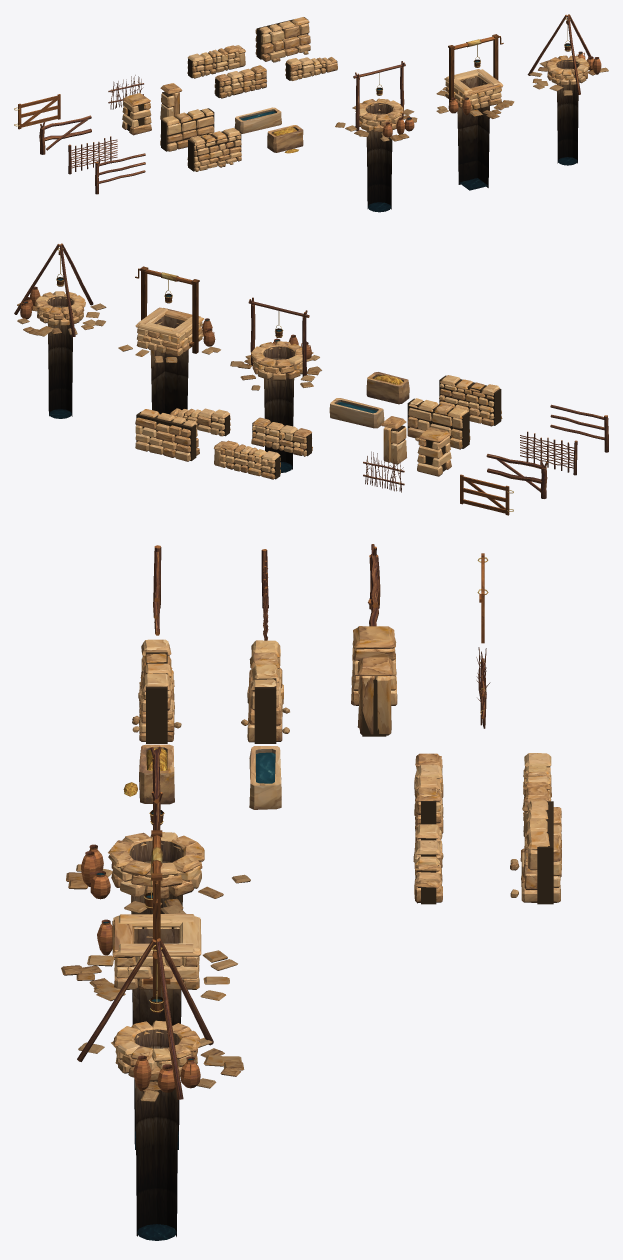
File: vila.glb
The picture shows the model from 3 angles, top to bottom: view 1: azimuth 30°, elevation 25°; view 2: azimuth 150°, elevation 25°; view 3: azimuth 270°, elevation 25°; orthographic projection. The views are drawn at different scales.
Visible parts, largest first — view 1: Poco_2_Cano, Poco_1_Cano, Arrimo_Reta, Poco_2, Aprisco_Muro_A, Poco_3_Cano, Aprisco_Muro_B, Poco_1, Mureta_Fim, Poco_3, Mureta_Reta, Aprisco_Canto (+12 smaller); view 2: Arrimo_Reta, Poco_2, Poco_2_Cano, Poco_3_Cano, Aprisco_Muro_A, Aprisco_Muro_B, Poco_1, Poco_1_Cano, Poco_3, Mureta_Fim, Mureta_Reta, Aprisco_Canto (+12 smaller); view 3: Poco_2, Poco_3_Cano, Poco_1, Poco_3, Arrimo_Reta, Aprisco_Muro_A, Aprisco_Muro_B, Aprisco_Ombreira, Poco_3_Armacao, Mureta_Rampa, Mureta_Reta, Poco_2_Cano (+7 smaller).
Part boxes in pixels (box(x1,y1,x2,y2)): Poco_2_Cano: box(457, 76, 489, 187); Poco_1_Cano: box(366, 103, 392, 209); Arrimo_Reta: box(255, 17, 310, 62); Poco_2: box(436, 69, 514, 118); Aprisco_Muro_A: box(187, 128, 241, 171); Poco_3_Cano: box(556, 59, 579, 163); Aprisco_Muro_B: box(160, 108, 214, 151); Poco_1: box(335, 98, 417, 141); Mureta_Fim: box(187, 45, 245, 78); Poco_3: box(529, 55, 608, 95); Mureta_Reta: box(214, 65, 266, 98); Aprisco_Canto: box(122, 93, 151, 135); Arrimo_Reta: box(135, 409, 199, 461); Poco_2: box(118, 307, 220, 362); Poco_2_Cano: box(150, 316, 188, 414); Poco_3_Cano: box(47, 296, 73, 416); Aprisco_Muro_A: box(439, 375, 502, 426); Aprisco_Muro_B: box(407, 398, 470, 449); Poco_1: box(230, 341, 321, 390); Poco_1_Cano: box(263, 346, 294, 469); Poco_3: box(17, 291, 106, 336); Mureta_Fim: box(214, 440, 280, 479); Mureta_Reta: box(251, 417, 312, 456); Aprisco_Canto: box(417, 427, 451, 476); Poco_2: box(61, 914, 237, 1001); Poco_3_Cano: box(134, 1029, 179, 1236); Poco_1: box(66, 832, 250, 913); Poco_3: box(78, 1020, 244, 1102); Arrimo_Reta: box(510, 800, 561, 904); Aprisco_Muro_A: box(132, 639, 181, 743); Aprisco_Muro_B: box(241, 640, 289, 743); Aprisco_Ombreira: box(357, 657, 393, 736); Poco_3_Armacao: box(77, 938, 213, 1099); Mureta_Rampa: box(413, 824, 443, 904); Mureta_Reta: box(414, 753, 443, 833); Poco_2_Cano: box(132, 929, 180, 1143).
Bounding box in the file's own units: 21.76 × 6.04 × 9.22.
Materials: 1 (1 with a texture image).
